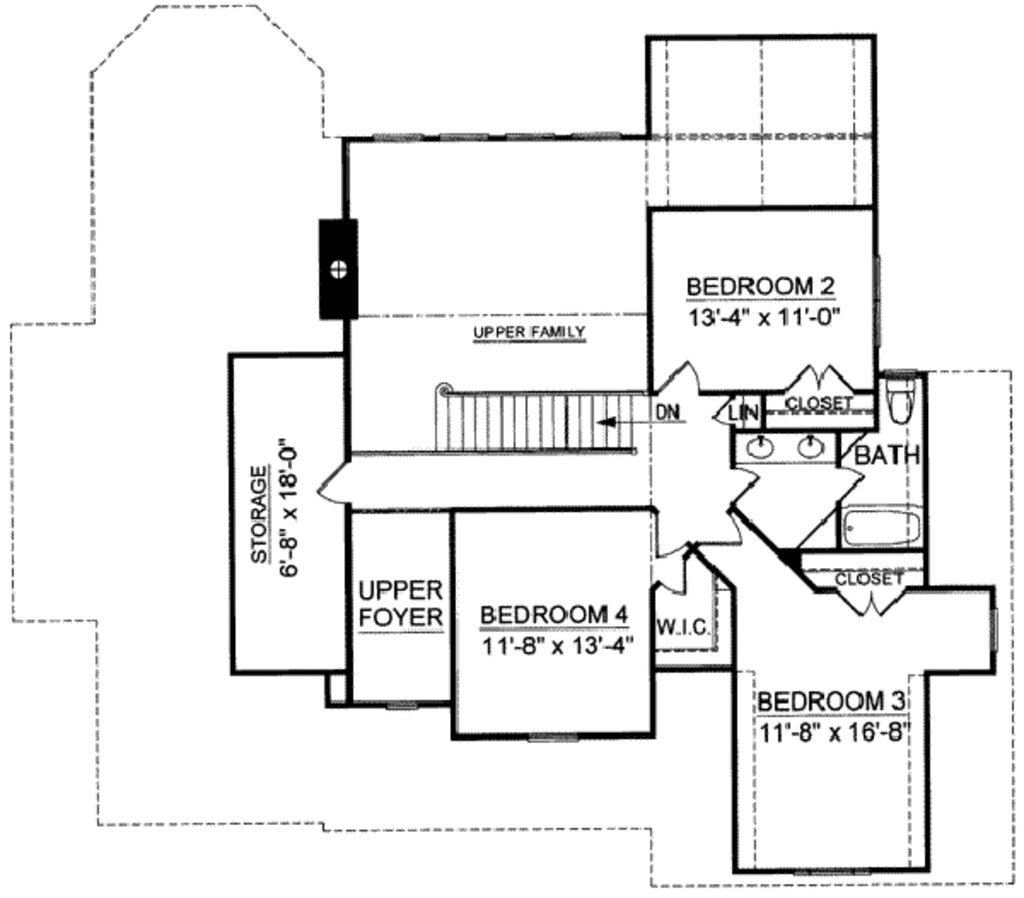door: (786, 362, 853, 400), (658, 351, 707, 397), (698, 507, 747, 551), (312, 459, 357, 506), (836, 589, 911, 617), (832, 461, 868, 506), (662, 558, 698, 601), (730, 467, 761, 503)
large_sink: (878, 372, 922, 426)
small_sink: (731, 432, 838, 469)
stairs: (429, 378, 638, 461)
tub: (841, 504, 922, 550)
